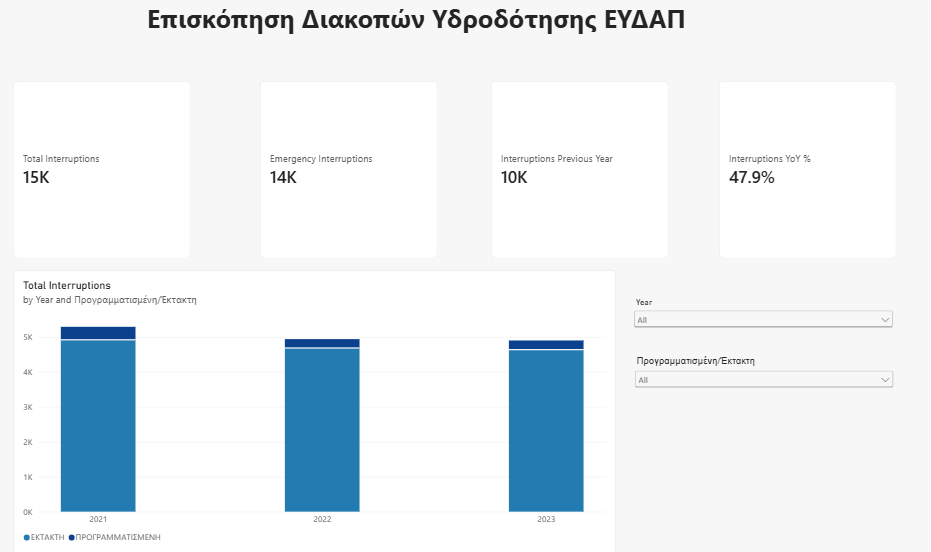

Layout of this report page (visuals, bound fields, positions):
{"tool":"powerbi","page":{"name":"Overview","canvas":[1920,1080],"ordinal":0},"visuals":[{"type":"cardVisual","fields":{"Data":["NoWater_History.Total Interruptions"]},"box":[213,220.3,300,300],"z":0},{"type":"cardVisual","fields":{"Data":["NoWater_History.Emergency Interruptions"]},"box":[631.7,220.3,300,300],"z":1},{"type":"cardVisual","fields":{"Data":["NoWater_History.Interruptions Previous Year"]},"box":[1021.3,220.3,300,300],"z":2},{"type":"cardVisual","fields":{"Data":["NoWater_History.Interruptions YoY %"]},"box":[1407.9,220.3,300,300],"z":3},{"type":"columnChart","fields":{"Category":["Date_Table.Year"],"Series":["NoWater_History.Προγραμματισμένη/Έκτακτη"],"Y":["NoWater_History.Total Interruptions"]},"box":[213.1,539.6,1020.1,483.8],"z":4},{"type":"slicer","fields":{"Values":["Date_Table.Year"]},"box":[1258.6,585.3,448.3,64.3],"z":5},{"type":"slicer","fields":{"Values":["NoWater_History.Προγραμματισμένη/Έκτακτη"]},"box":[1260.3,685.1,446.6,62.6],"z":6},{"type":"textbox","box":[150.3,84.6,1209.5,150.3],"z":7}]}

Visuals, with their boxes on the page's 1920x1080 design canvas (x1, y1, x2, y2). These are canvas units, not pixel positions in the 931x552 screenshot, which may show the page scaled, cropped or inside an application window:
cardVisual - NoWater_History.Total Interruptions: (213, 220, 513, 520)
cardVisual - NoWater_History.Emergency Interruptions: (632, 220, 932, 520)
cardVisual - NoWater_History.Interruptions Previous Year: (1021, 220, 1321, 520)
cardVisual - NoWater_History.Interruptions YoY %: (1408, 220, 1708, 520)
columnChart - Date_Table.Year x NoWater_History.Προγραμματισμένη/Έκτακτη: (213, 540, 1233, 1023)
slicer - Date_Table.Year: (1259, 585, 1707, 650)
slicer - NoWater_History.Προγραμματισμένη/Έκτακτη: (1260, 685, 1707, 748)
textbox: (150, 85, 1360, 235)
